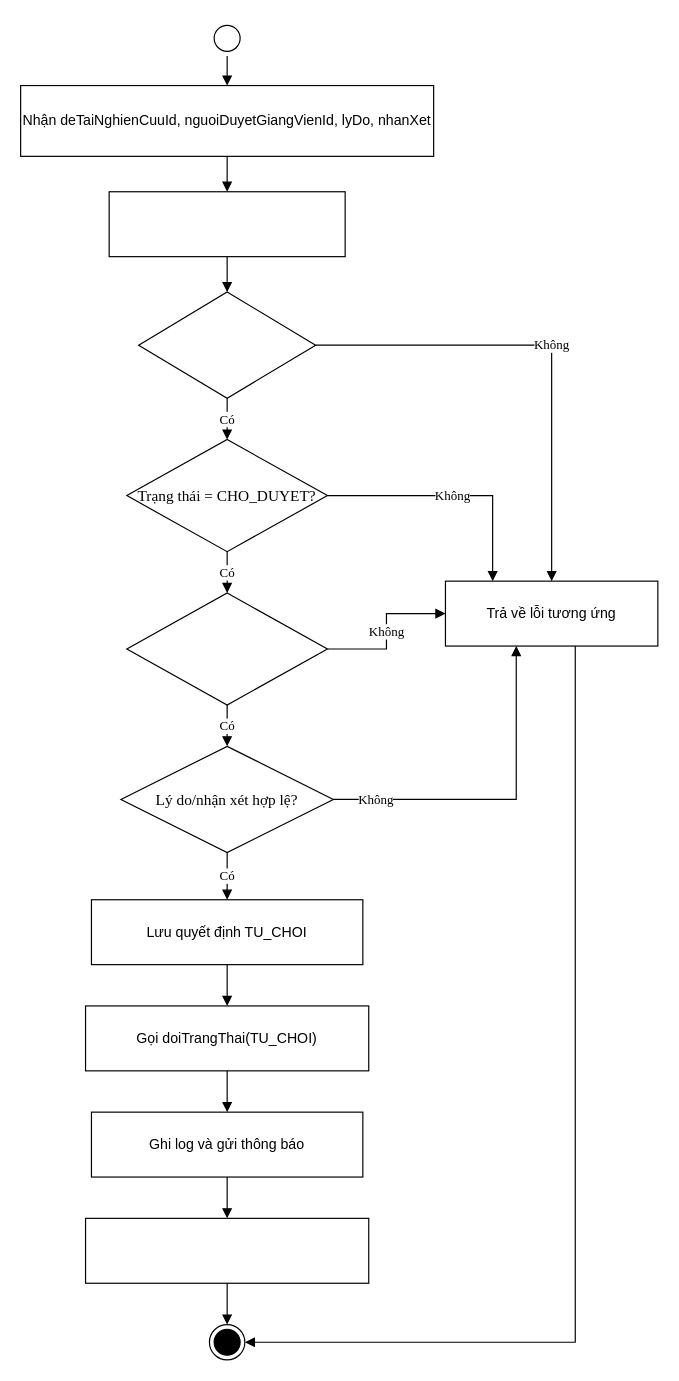
This 679x1381 diagram has some shape labels left out. The shapes that lost their labels are listed below. From the top down, each one's centre as x and y in pixels, then its label:
At (226,224): "Tìm hồ sơ đề tài".
At (226,344): "Tìm thấy đề tài?".
At (226,648): "Người duyệt có quyền?".
At (226,1250): "Trả về bản ghi từ chối".
